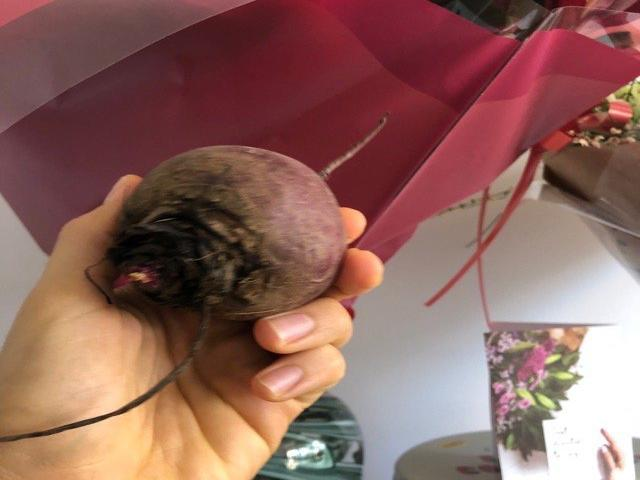beet: (4, 112, 391, 442)
